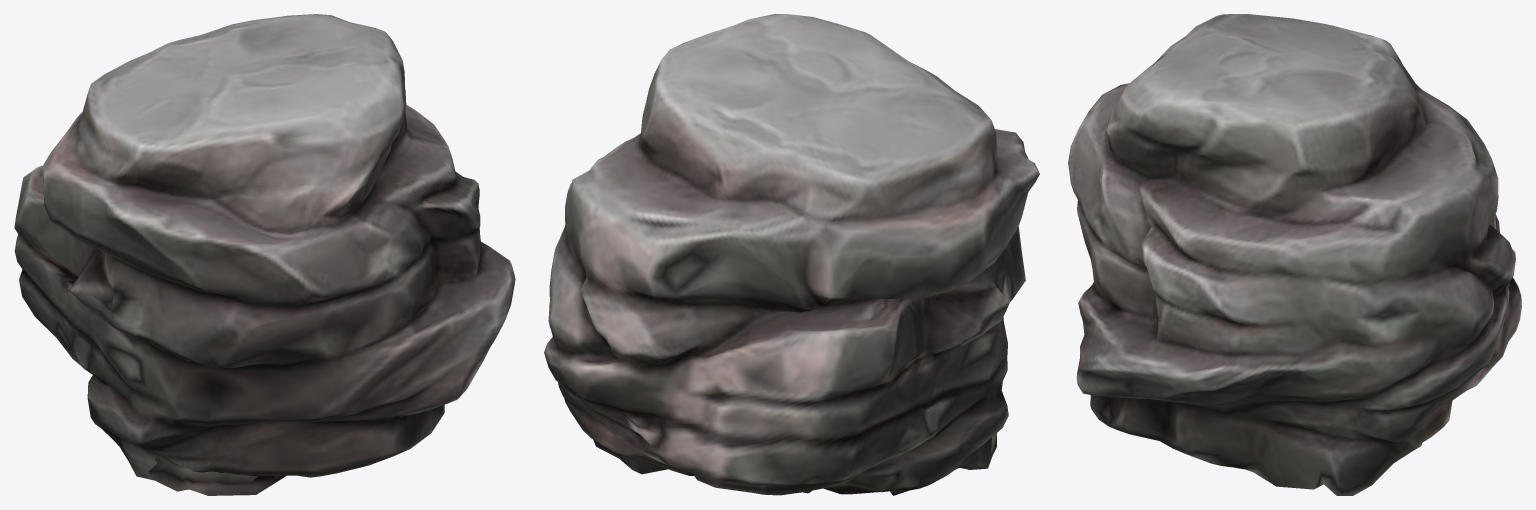
Rendered from rock_big.glb.
3 renders of one model, left to right at view 1: azimuth 30°, elevation 25°; view 2: azimuth 150°, elevation 25°; view 3: azimuth 270°, elevation 25°, orthographic. The views are drawn at different scales.
Parts seen in each view (by area): view 1: Mid_1; view 2: Mid_1; view 3: Mid_1.
Part boxes in pixels (x1,y1,x2,y2): Mid_1: (14, 14, 515, 495); Mid_1: (544, 14, 1039, 495); Mid_1: (1068, 14, 1521, 495).
Size of the model in its own units: 3.9 by 3.45 by 3.85.
Materials: 1 (1 with a texture image).
